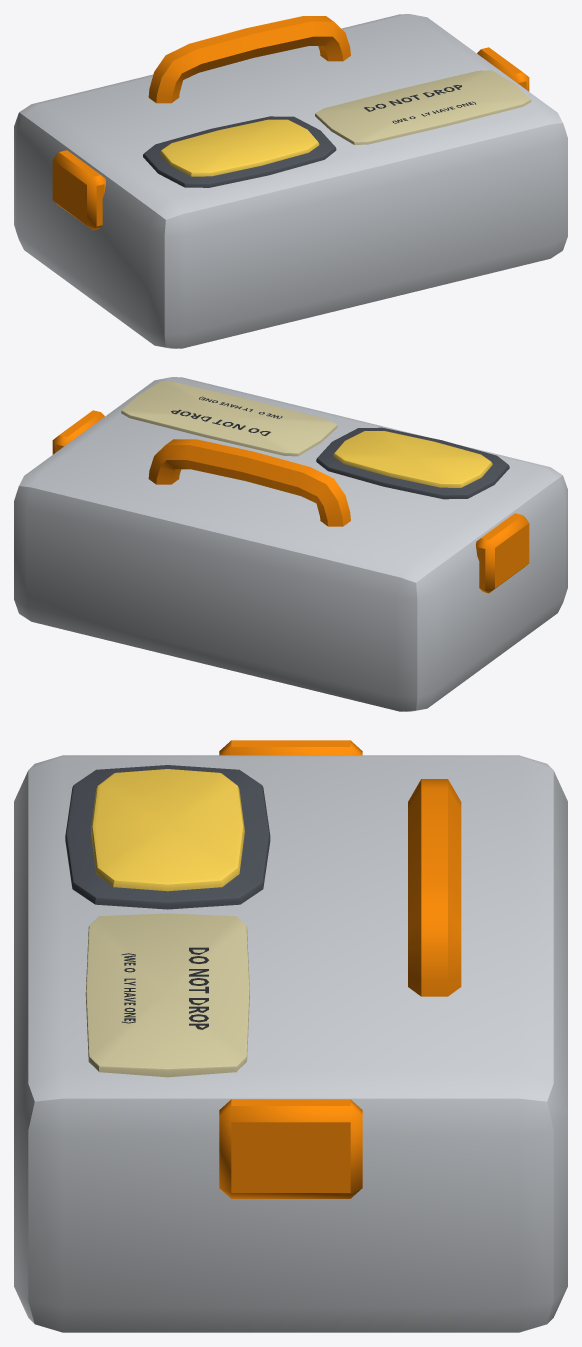
File: experiment_package.glb
3 renders of one model, top to bottom at view 1: azimuth 30°, elevation 25°; view 2: azimuth 150°, elevation 25°; view 3: azimuth 270°, elevation 25°, orthographic. The views are drawn at different scales.
Visible parts, largest first — view 1: Tandem_Adapter_ExperimentPackage; view 2: Tandem_Adapter_ExperimentPackage; view 3: Tandem_Adapter_ExperimentPackage.
Part boxes in pixels (x1,y1,x2,y2): Tandem_Adapter_ExperimentPackage: (14, 14, 567, 348); Tandem_Adapter_ExperimentPackage: (14, 377, 567, 711); Tandem_Adapter_ExperimentPackage: (14, 740, 567, 1332).
Bounding box in the file's own units: 0.434 × 0.1828 × 0.27.
Materials: 1 (1 with a texture image).
